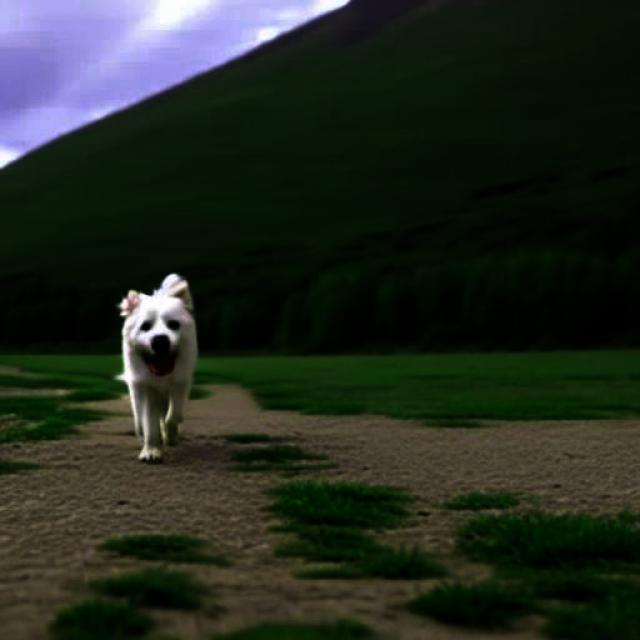Dog: (117, 273, 198, 465)
